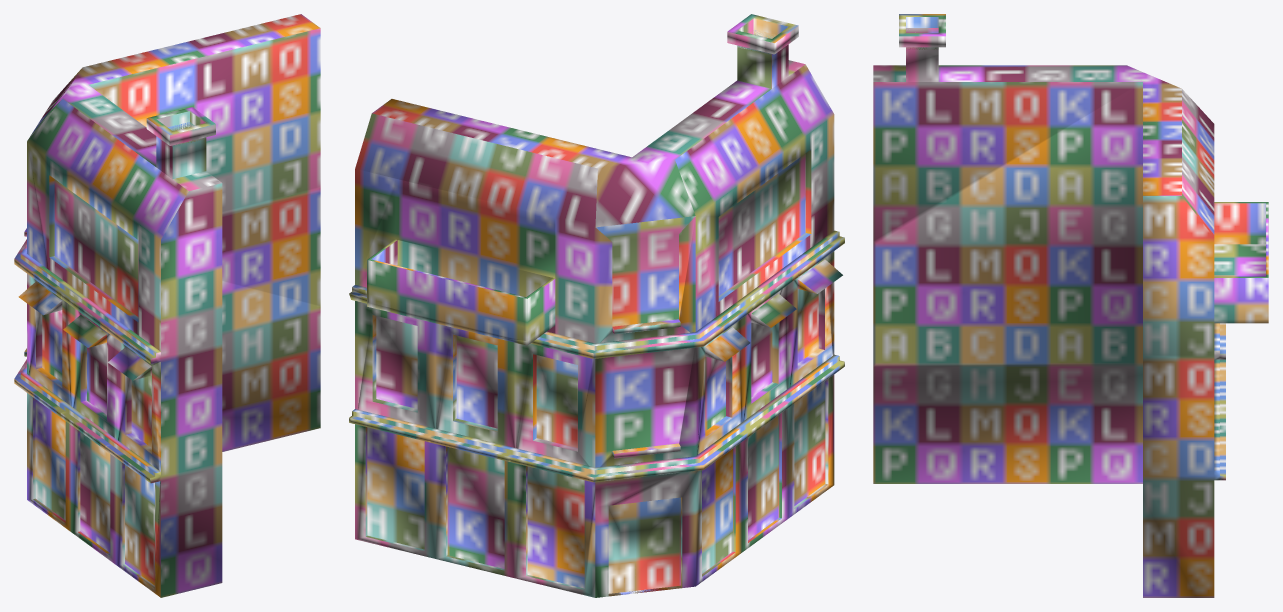
The model's file is building_04.obj.
3 renders of one model, left to right at view 1: azimuth 30°, elevation 25°; view 2: azimuth 150°, elevation 25°; view 3: azimuth 270°, elevation 25°, orthographic. The views are drawn at different scales.
Visible parts, largest first — view 1: Cube2; view 2: Cube2; view 3: Cube2.
Part boxes in pixels (left/top/right/bottom): Cube2: left=14, top=14, right=320, bottom=597; Cube2: left=349, top=14, right=844, bottom=597; Cube2: left=873, top=14, right=1268, bottom=597.
Bounding box in the file's own units: 10.17 × 13.95 × 11.09.
Materials: 1 (1 with a texture image).
